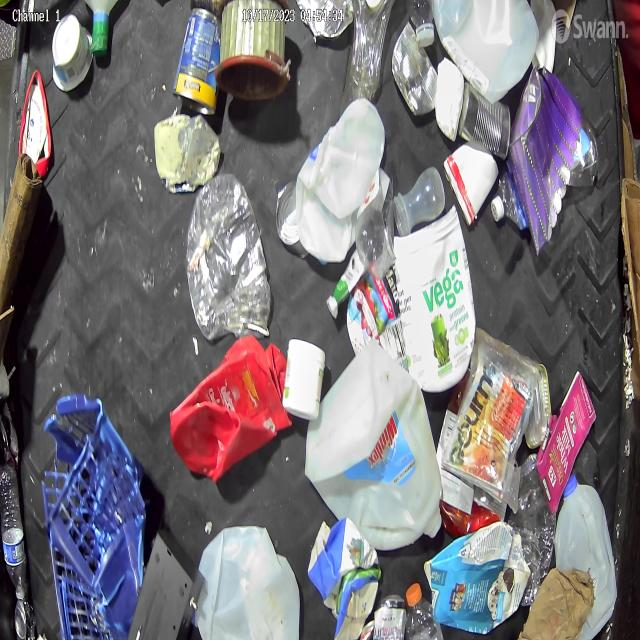can: (175, 6, 221, 118), (392, 20, 438, 116), (459, 83, 511, 158), (276, 181, 302, 252), (14, 597, 36, 640)
milk_jug: (304, 345, 442, 553), (299, 101, 385, 265), (189, 523, 298, 639), (432, 0, 540, 103), (554, 469, 616, 635)
non_white_jug: (170, 334, 294, 482), (426, 520, 521, 636)
plastic_bottle: (0, 462, 28, 600)
